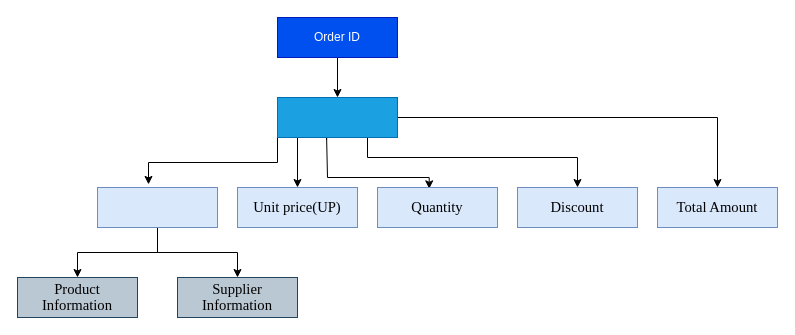
The diagram is 795 pixels wide and 335 high, and some of its shapes have lost their labels. The shapes that lost their labels are listed below. From the top down, each one's box as (x1, y1, x2, y2) in pixels, then its label:
(276, 96, 398, 138): Indent Details
(96, 186, 218, 228): Item name
